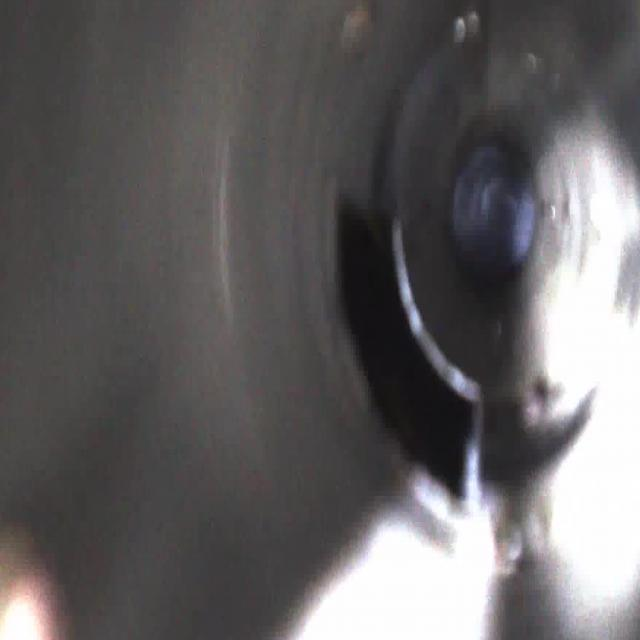hole: (315, 167, 497, 548)
